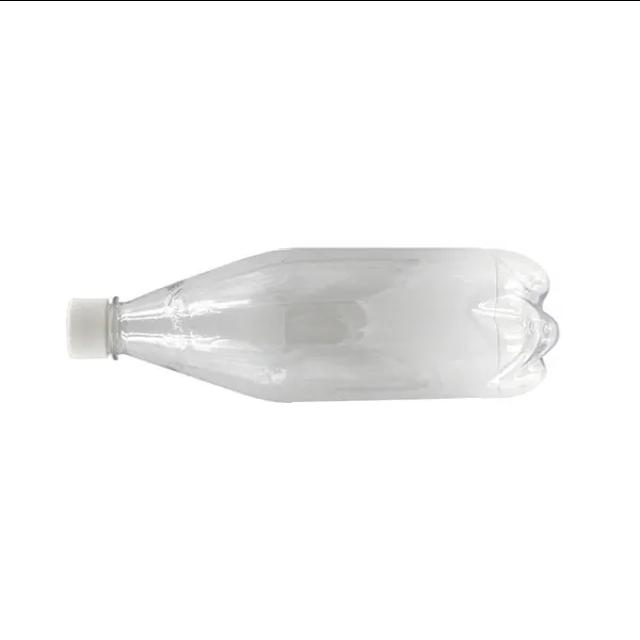bottom: (482, 243, 563, 403)
neck: (63, 248, 292, 401)
